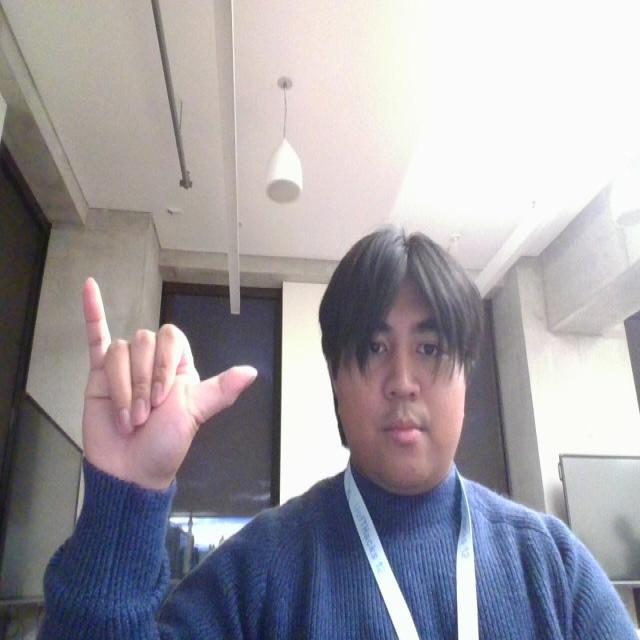Ysign: (74, 267, 264, 490)
